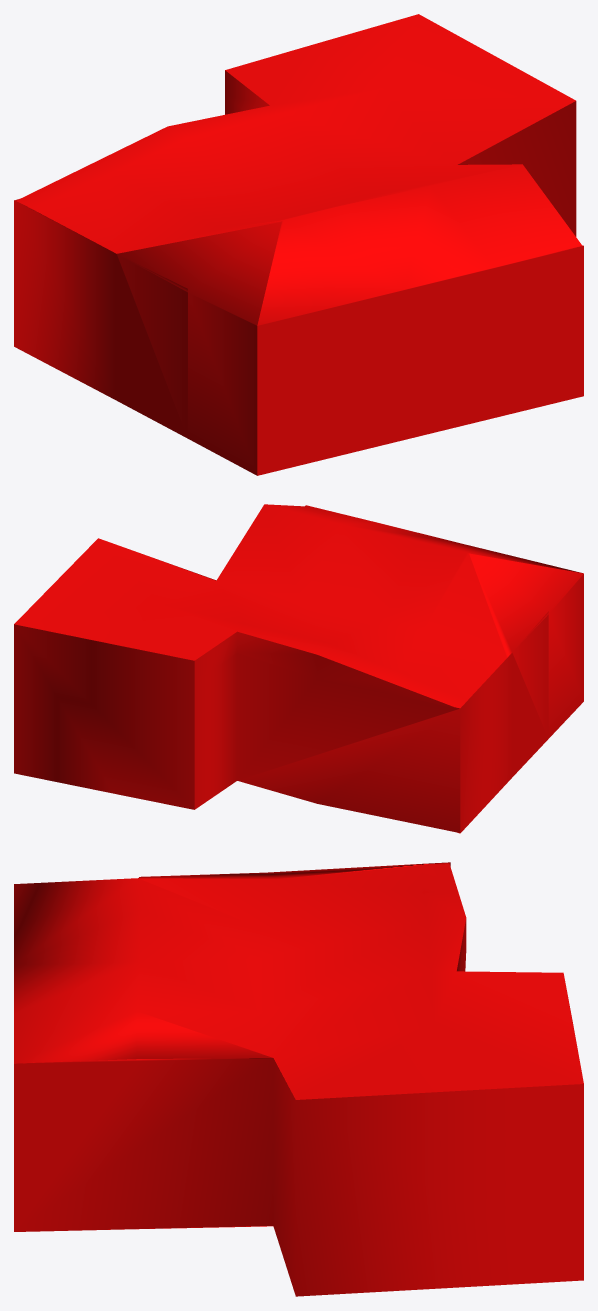
File: building.fbx
The picture shows the model from 3 angles, top to bottom: view 1: azimuth 30°, elevation 25°; view 2: azimuth 150°, elevation 25°; view 3: azimuth 270°, elevation 25°; orthographic projection. The views are drawn at different scales.
Parts seen in each view (by area): view 1: pCube1; view 2: pCube1; view 3: pCube1.
Boxes of the visible parts, left/top/right/bottom form: pCube1: left=14, top=14, right=583, bottom=475; pCube1: left=14, top=504, right=583, bottom=833; pCube1: left=14, top=862, right=583, bottom=1296.
Bounding box in the file's own units: 22.23 × 8.44 × 19.79.
